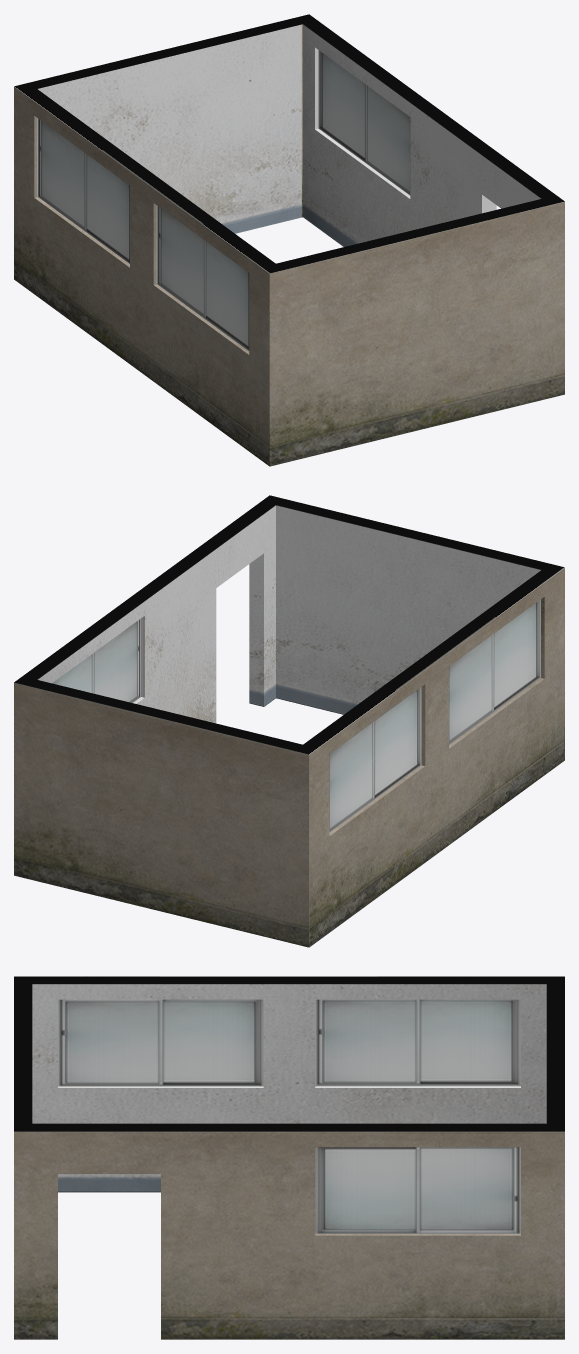
Rendered from 事務所.fbx.
3 views of the same model, one above another, from view 1: azimuth 30°, elevation 25°; view 2: azimuth 150°, elevation 25°; view 3: azimuth 270°, elevation 25° (orthographic). The views are drawn at different scales.
Parts seen in each view (by area): view 1: Cube; view 2: Cube; view 3: Cube.
Boxes of the visible parts, x1,y1,x2,y2 form: Cube: (14,14,564,466); Cube: (14,495,564,947); Cube: (14,976,564,1339).
Bounding box in the file's own units: 4 × 2.5 × 6.
1 material, 1 textured.
